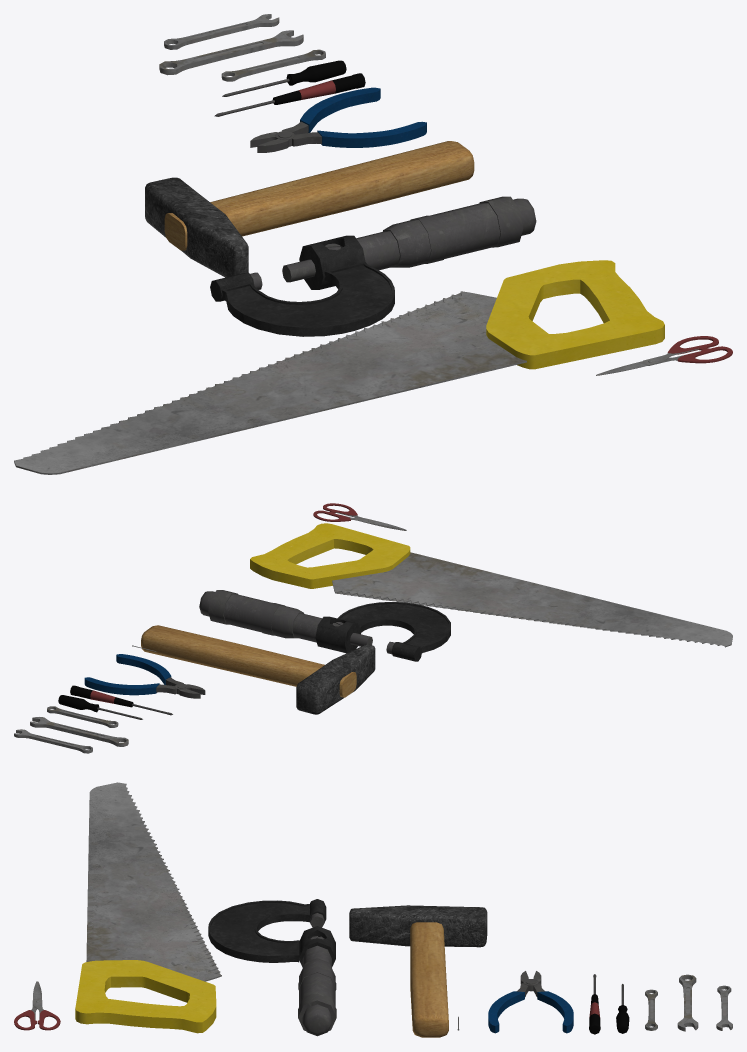
Rendered from instruments.obj.
The picture shows the model from 3 angles, top to bottom: view 1: azimuth 30°, elevation 25°; view 2: azimuth 150°, elevation 25°; view 3: azimuth 270°, elevation 25°; orthographic projection. The views are drawn at different scales.
Visible parts, largest first — view 1: saw, micrometer_, hammer, pliers, spanner_1, scissors, screwdriver_2, screwdriver_1, spanner_2, spanner_3; view 2: saw, micrometer_, hammer, pliers, spanner_1, scissors, screwdriver_2, spanner_2, screwdriver_1, spanner_3; view 3: saw, hammer, micrometer_, pliers, scissors, spanner_1, screwdriver_2, spanner_2.
Boxes of the visible parts, bbox=[...] form: saw: bbox=[14, 260, 664, 474]; micrometer_: bbox=[210, 196, 536, 336]; hammer: bbox=[145, 141, 474, 277]; pliers: bbox=[250, 87, 426, 152]; spanner_1: bbox=[159, 30, 303, 75]; scissors: bbox=[596, 336, 732, 375]; screwdriver_2: bbox=[214, 73, 365, 116]; screwdriver_1: bbox=[222, 60, 346, 96]; spanner_2: bbox=[164, 14, 279, 49]; spanner_3: bbox=[221, 49, 325, 81]; saw: bbox=[250, 523, 732, 647]; micrometer_: bbox=[199, 590, 450, 661]; hammer: bbox=[141, 625, 375, 714]; pliers: bbox=[84, 654, 205, 698]; spanner_1: bbox=[30, 717, 128, 746]; scissors: bbox=[313, 503, 406, 530]; screwdriver_2: bbox=[70, 685, 172, 715]; spanner_2: bbox=[14, 729, 92, 753]; screwdriver_1: bbox=[58, 695, 142, 719]; spanner_3: bbox=[47, 706, 118, 727]; saw: bbox=[75, 782, 221, 1033]; hammer: bbox=[349, 905, 487, 1037]; micrometer_: bbox=[208, 899, 336, 1036]; pliers: bbox=[488, 971, 573, 1033]; scissors: bbox=[14, 981, 60, 1030]; spanner_1: bbox=[677, 974, 698, 1031]; screwdriver_2: bbox=[589, 974, 600, 1034]; spanner_2: bbox=[716, 985, 732, 1030].
Size of the model in its own units: 0.8041 by 0.0534 by 0.9901.
Materials: 1 (1 with a texture image).
